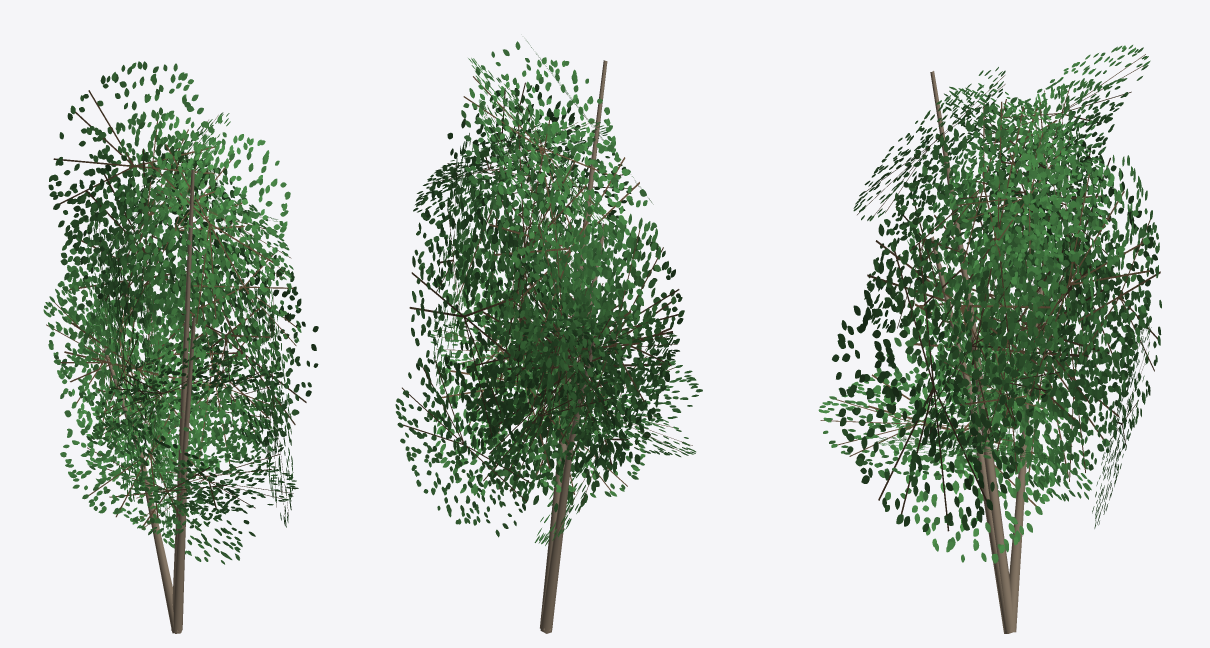
File: buxus-sempervirens.glb
3 renders of one model, left to right at view 1: azimuth 30°, elevation 25°; view 2: azimuth 150°, elevation 25°; view 3: azimuth 270°, elevation 25°, orthographic. The views are drawn at different scales.
Parts seen in each view (by area): view 1: folhas, galhos; view 2: folhas, galhos; view 3: folhas, galhos.
Part boxes in pixels (x1,y1,x2,y2): folhas: [43, 61, 318, 564]; galhos: [103, 169, 195, 633]; folhas: [395, 40, 702, 545]; galhos: [540, 60, 607, 633]; folhas: [818, 45, 1161, 563]; galhos: [930, 71, 1042, 633].
Bounding box in the file's own units: 0.5078 × 1 × 0.6.
Materials: 2 (1 with a texture image).
